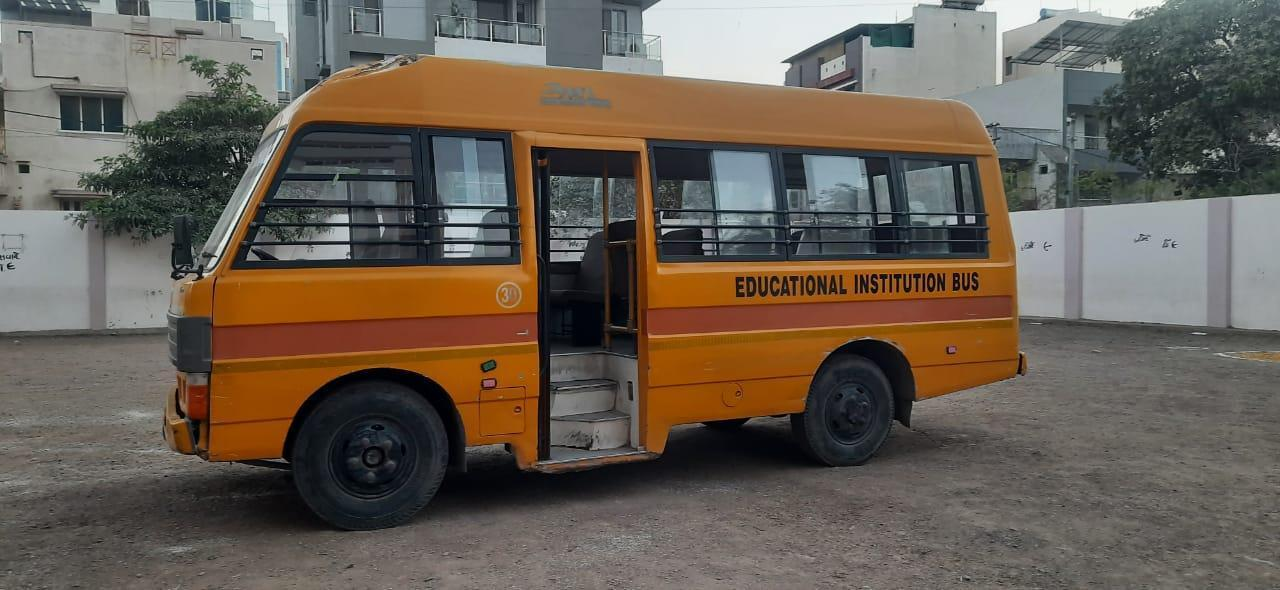Bus: (153, 39, 1057, 519)
